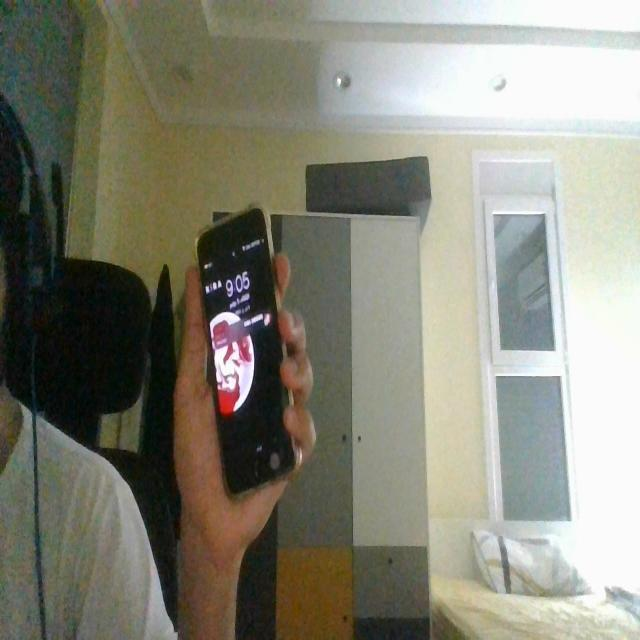Phone: (191, 202, 307, 507)
